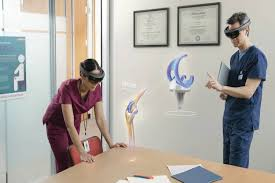hololens: (77, 63, 106, 85), (223, 20, 252, 39)
